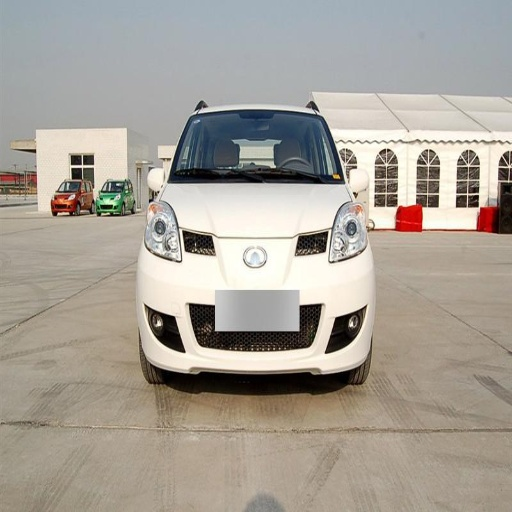front_bumper: (139, 227, 375, 375)
front_right_light: (145, 200, 182, 261)
hood: (165, 183, 347, 237)
